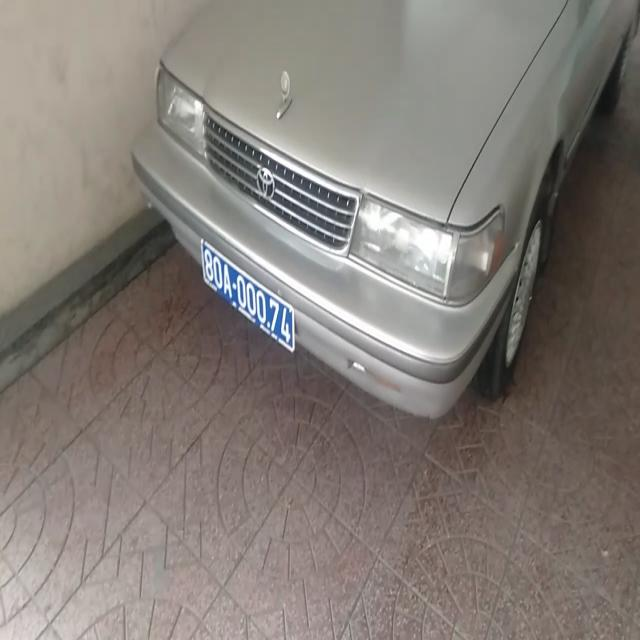bien_xanh: (202, 241, 294, 386)
